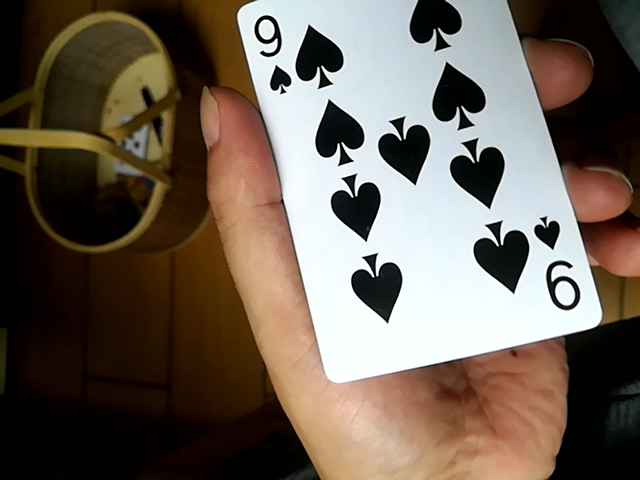ht 9: (229, 0, 600, 388)
